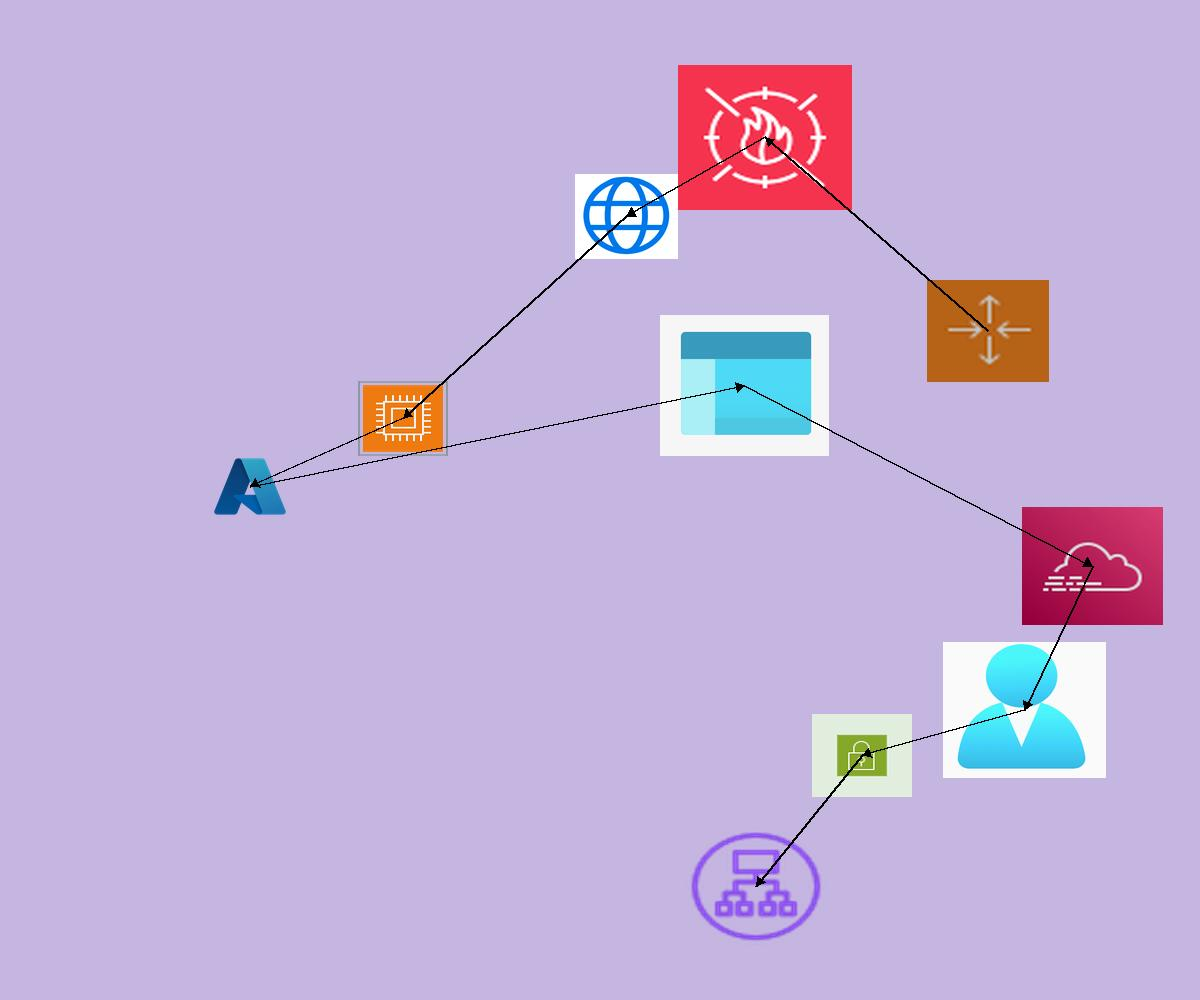AWS-Category_Compute: (358, 381, 448, 456)
AWS-CloudTrail: (1022, 507, 1163, 625)
AWS-Public-subnet: (812, 714, 912, 797)
AWS-Res_Elastic-Load-Balancing_Application-Load-Balancer: (686, 828, 826, 945)
AWS-Scaling-group: (927, 280, 1049, 382)
AWS-WAF: (678, 65, 852, 210)
Azure_http: (575, 174, 678, 259)
Azure_management-portal: (660, 315, 829, 456)
Azure_services: (211, 454, 289, 519)
Azure_users: (943, 642, 1106, 778)
